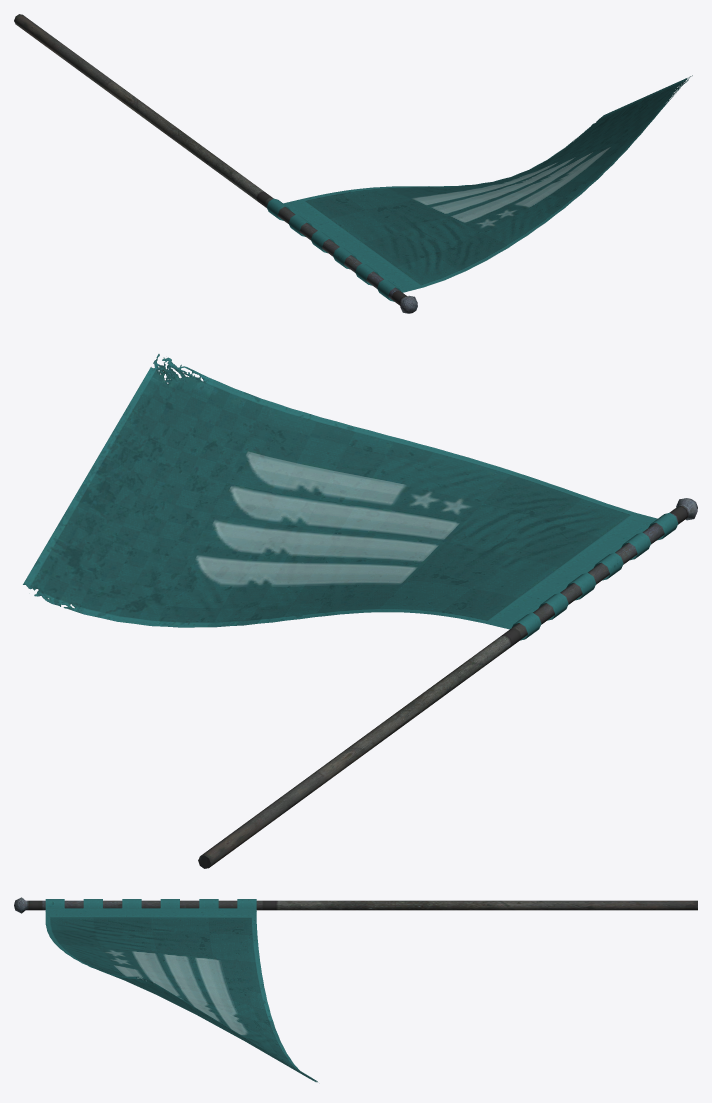
The model's file is mp_flag_allies_2_LOD0.obj.
3 views of the same model, one above another, from view 1: azimuth 30°, elevation 25°; view 2: azimuth 150°, elevation 25°; view 3: azimuth 270°, elevation 25° (orthographic). The views are drawn at different scales.
Parts seen in each view (by area): view 1: mtl_flag_allies_2, mtl_mp_flag_base; view 2: mtl_flag_allies_2, mtl_mp_flag_base; view 3: mtl_flag_allies_2, mtl_mp_flag_base.
Part boxes in pixels (x1,y1,x2,y2): mtl_flag_allies_2: (266,75,692,301); mtl_mp_flag_base: (14,14,417,313); mtl_flag_allies_2: (23,354,678,640); mtl_mp_flag_base: (198,498,697,868); mtl_flag_allies_2: (45,899,317,1082); mtl_mp_flag_base: (14,897,697,913).
Bounding box in the file's own units: 116 × 44.12 × 212.
